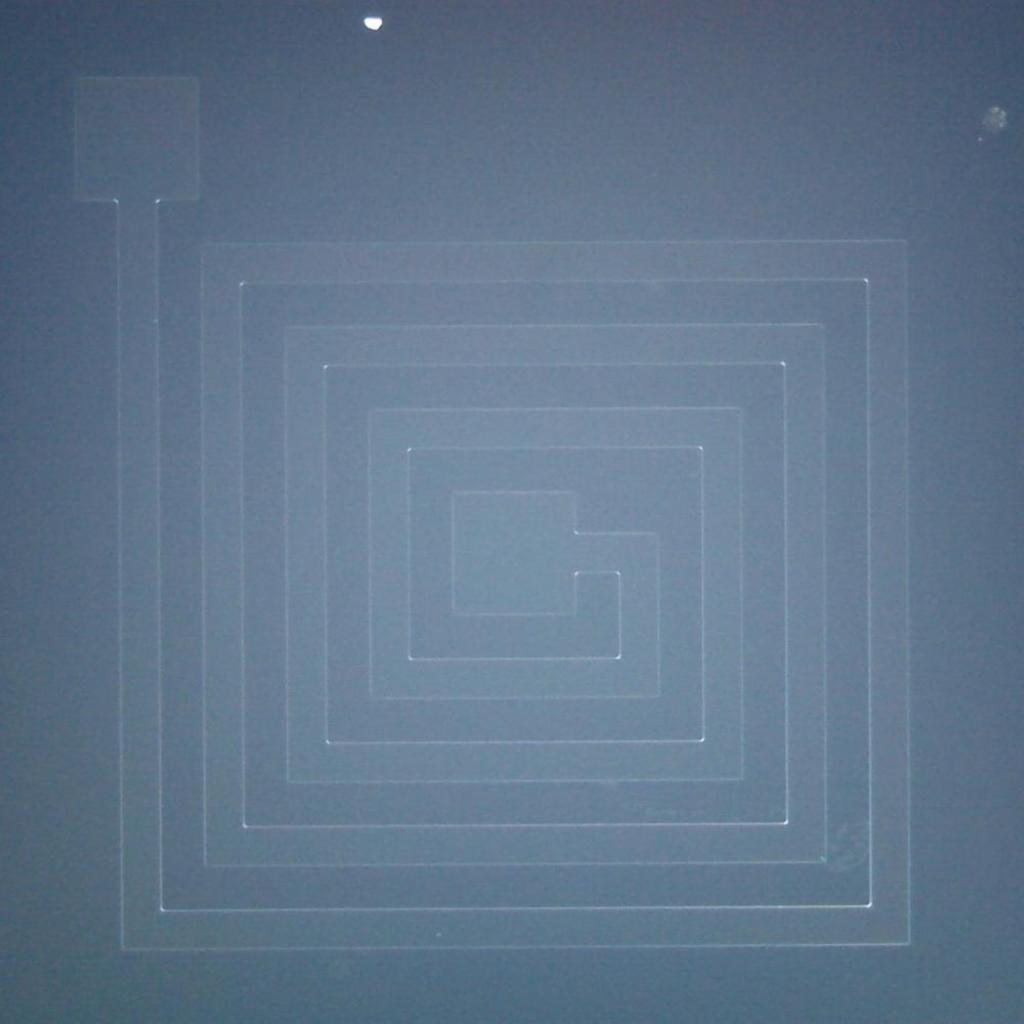Bdot: (363, 14, 382, 33)
